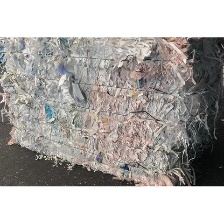book: (0, 37, 224, 185)
